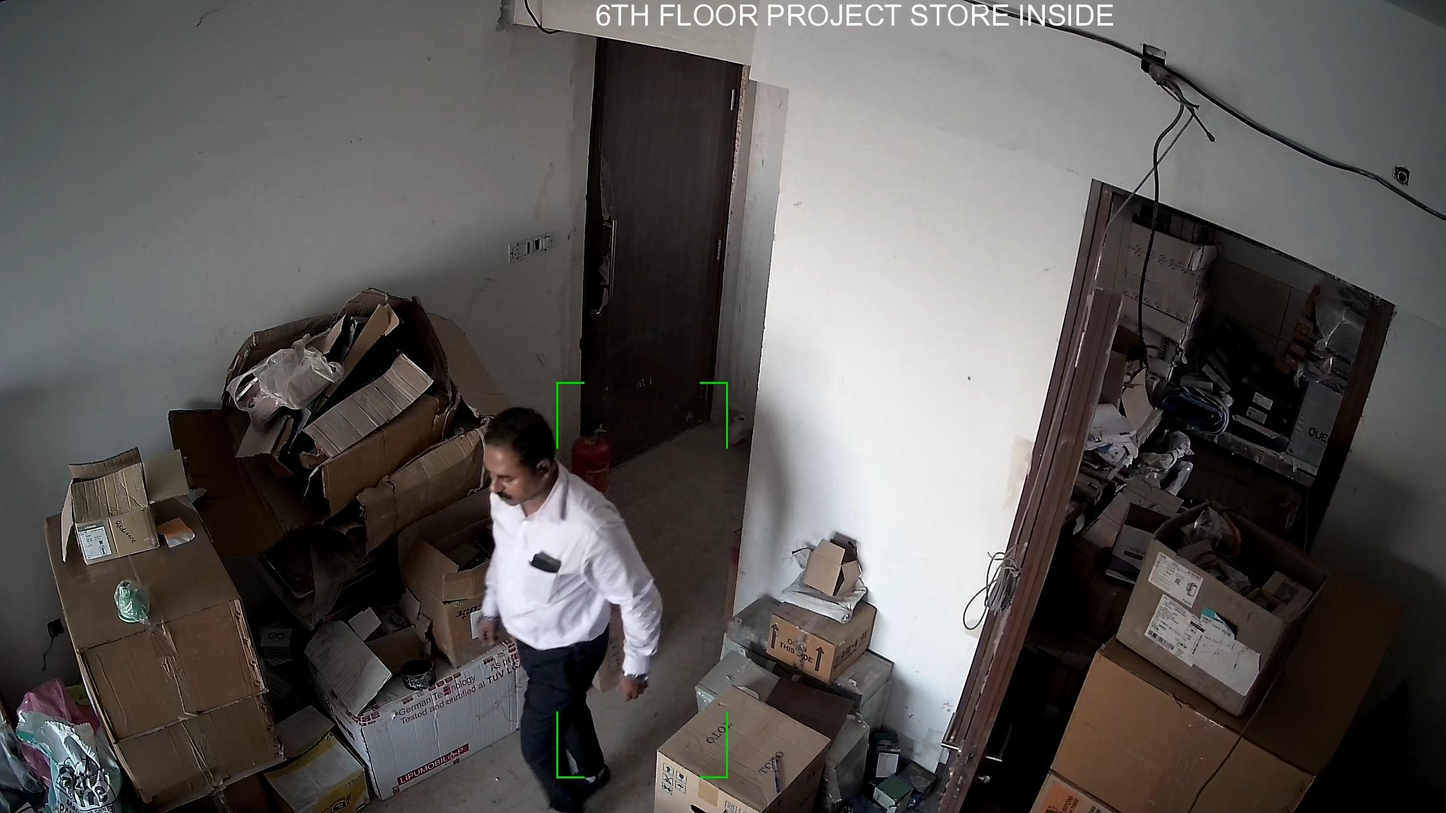Door-Close: (570, 38, 743, 462)
